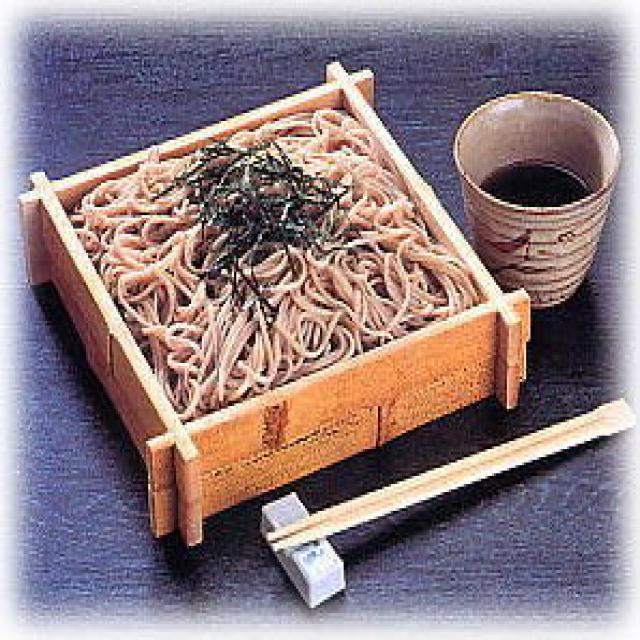面条主食: (23, 48, 534, 546)
